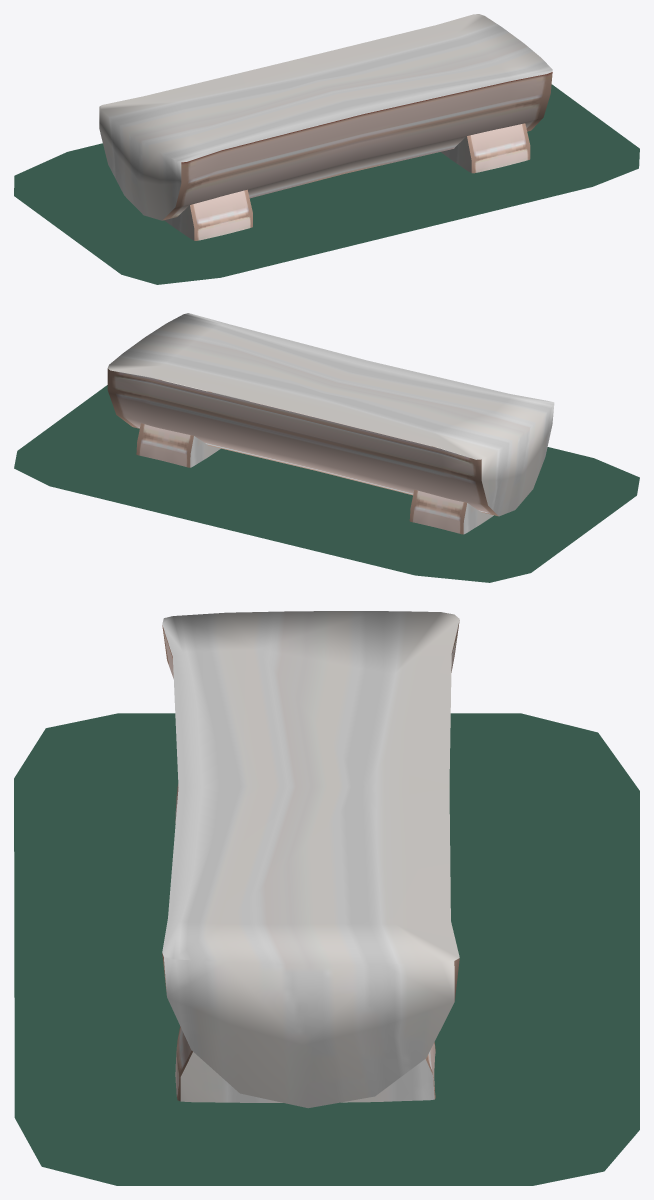
Rendered from DecoBenchRustic2.fbx.
3 renders of one model, top to bottom at view 1: azimuth 30°, elevation 25°; view 2: azimuth 150°, elevation 25°; view 3: azimuth 270°, elevation 25°, orthographic. The views are drawn at different scales.
Parts seen in each view (by area): view 1: BenchRustic, ShadowSquare; view 2: BenchRustic, ShadowSquare; view 3: ShadowSquare, BenchRustic.
Boxes of the visible parts, bbox=[...] form: BenchRustic: bbox=[99, 14, 552, 240]; ShadowSquare: bbox=[14, 84, 639, 284]; BenchRustic: bbox=[107, 313, 554, 534]; ShadowSquare: bbox=[14, 385, 639, 582]; ShadowSquare: bbox=[14, 713, 639, 1185]; BenchRustic: bbox=[162, 611, 459, 1108].
Size of the model in its own units: 1.77 by 0.3035 by 0.9881.
2 materials, 1 textured.
